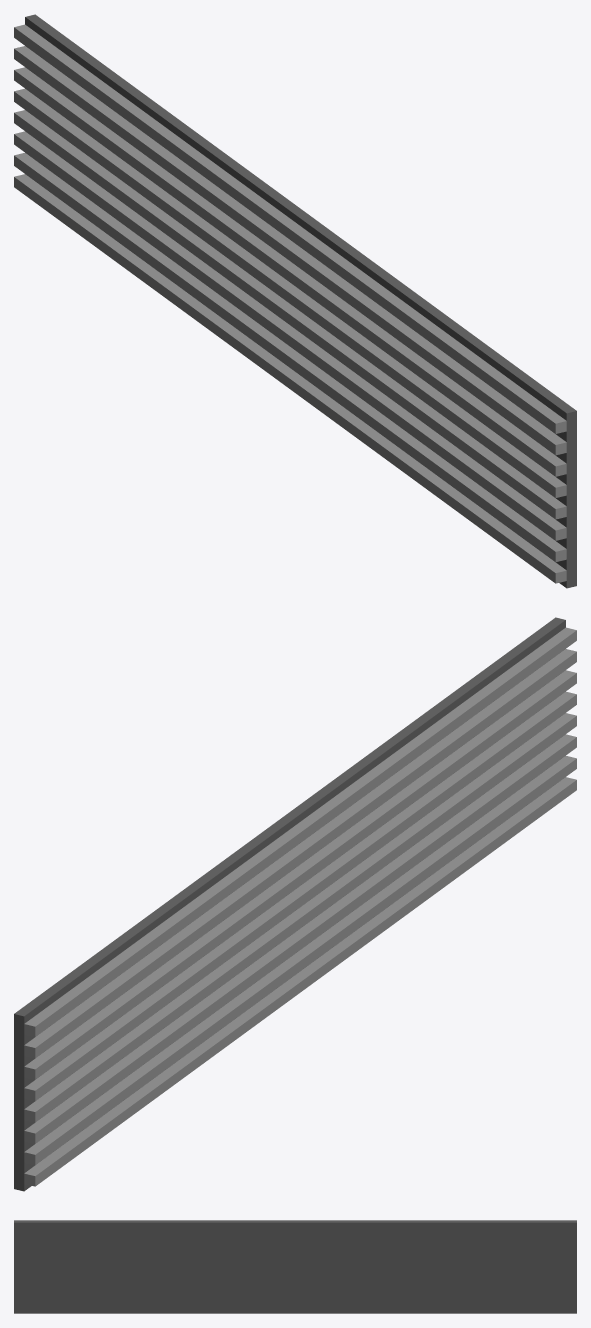
File: Signboard_10.FBX
3 renders of one model, top to bottom at view 1: azimuth 30°, elevation 25°; view 2: azimuth 150°, elevation 25°; view 3: azimuth 270°, elevation 25°, orthographic. The views are drawn at different scales.
Parts seen in each view (by area): view 1: Signboard_10_LOD0; view 2: Signboard_10_LOD0; view 3: Signboard_10_LOD0.
Part boxes in pixels (box(x1,y1,x2,y2)): Signboard_10_LOD0: box(14, 14, 576, 588); Signboard_10_LOD0: box(14, 617, 576, 1191); Signboard_10_LOD0: box(14, 1220, 576, 1313).
Size of what is drawn, in the model's own units: 8.21 by 64.44 by 361.
